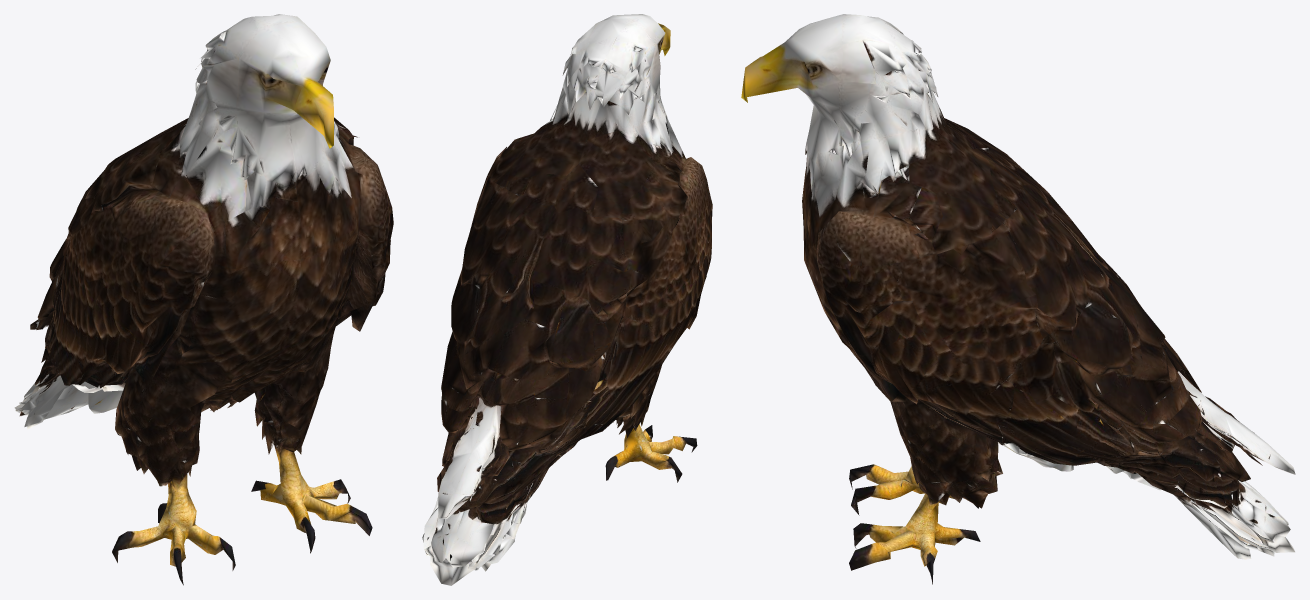
Rendered from eagle.glb.
The picture shows the model from 3 angles, left to right: view 1: azimuth 30°, elevation 25°; view 2: azimuth 150°, elevation 25°; view 3: azimuth 270°, elevation 25°; orthographic projection. The views are drawn at different scales.
Parts seen in each view (by area): view 1: eagle; view 2: eagle; view 3: eagle.
Boxes of the visible parts, x1=… form: eagle: x1=14, y1=14, x2=393, y2=585; eagle: x1=422, y1=14, x2=712, y2=585; eagle: x1=741, y1=14, x2=1295, y2=584.
Bounding box in the file's own units: 0.4009 × 0.7965 × 0.7514.
Materials: 1 (1 with a texture image).
